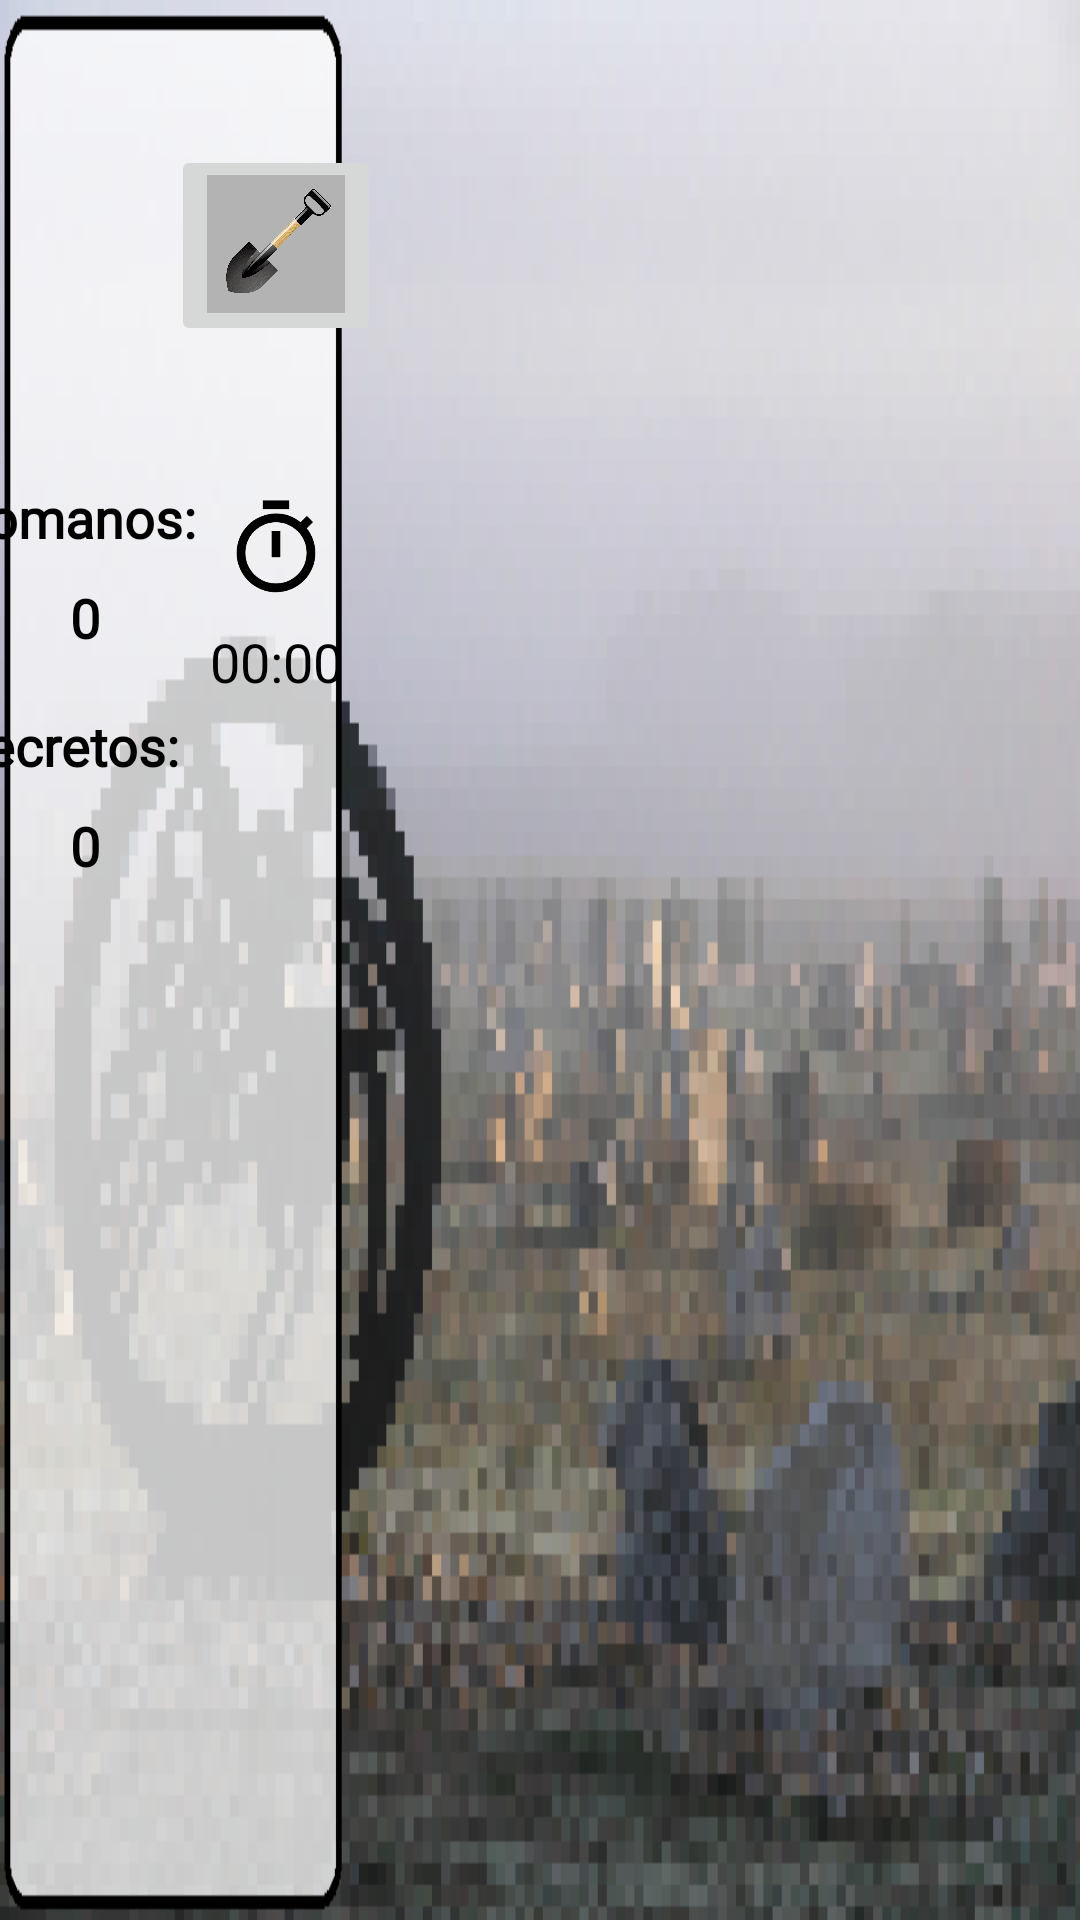

Where icons sit on this 1080×1920 app screen, as (x1, y1, x2, y2):
Choice-to flag or to reveal: (183, 145, 381, 346)
